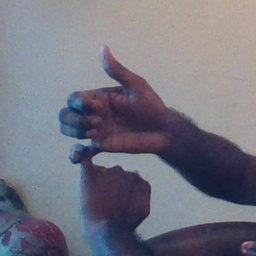S: (51, 42, 177, 223)
